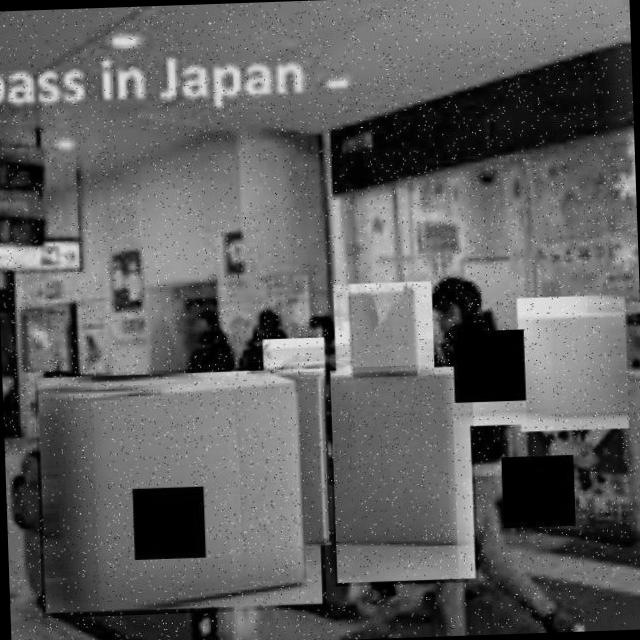box: (34, 364, 327, 618), (328, 363, 479, 587), (516, 293, 630, 434), (262, 334, 334, 552), (332, 280, 438, 398), (452, 331, 526, 428)
